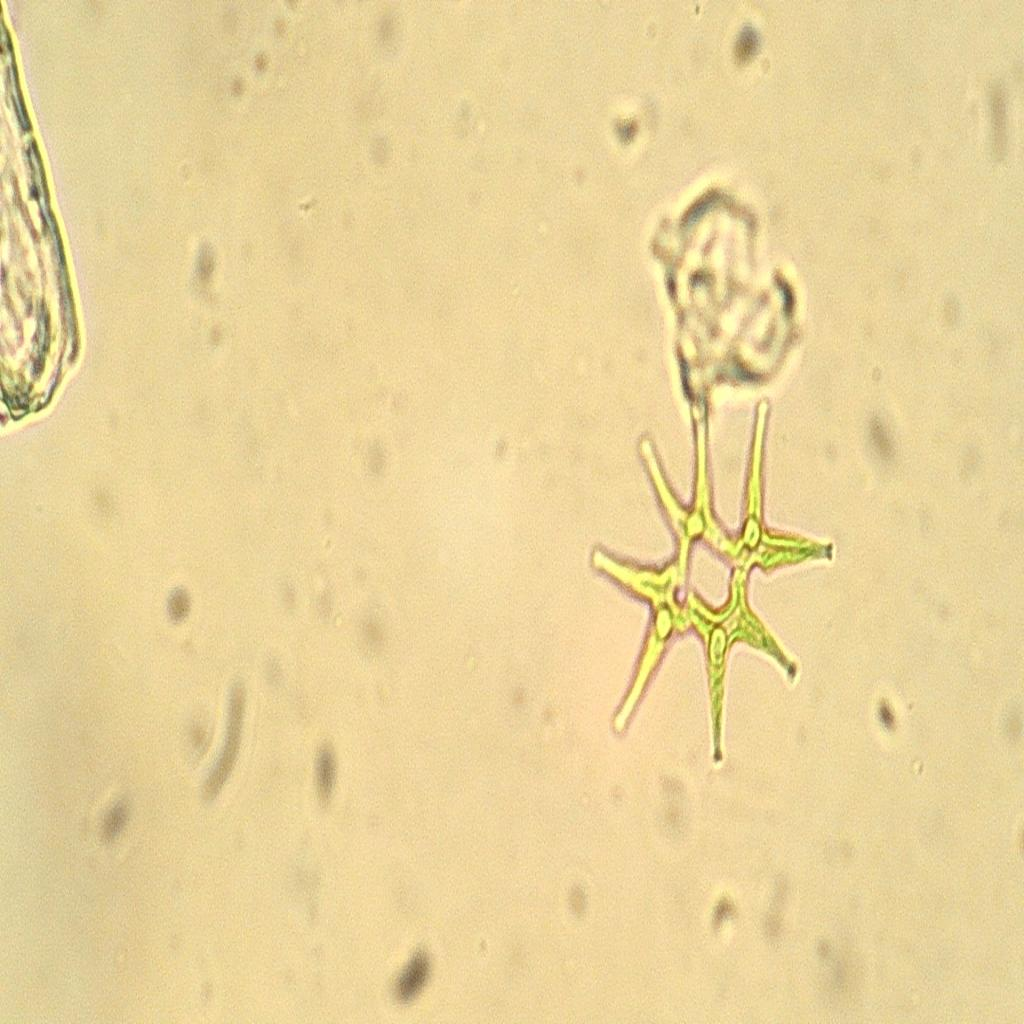Pediastrum_CT: (577, 385, 844, 775)
